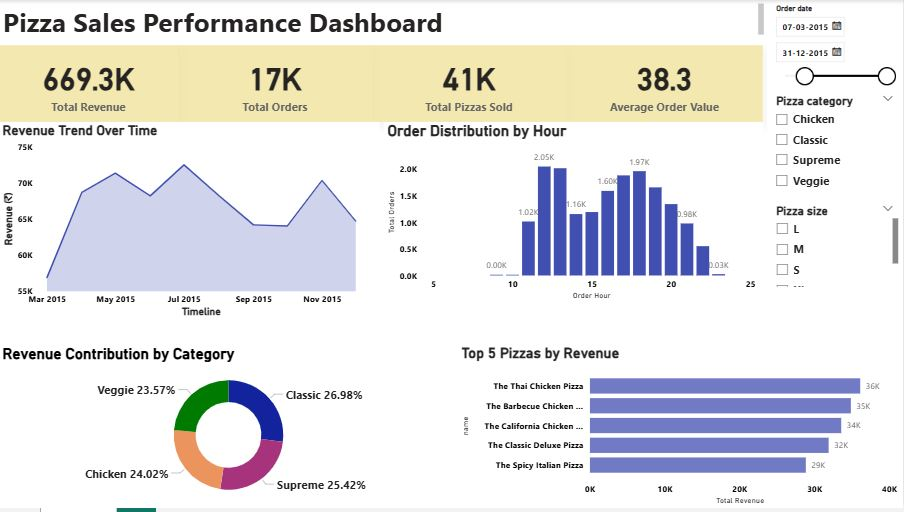

The dashboard page shown, as its layout file describes it:
{"tool":"powerbi","page":{"name":"Page 1","canvas":[1280,720],"ordinal":0},"visuals":[{"type":"card","title":"Total Revenue (₹)","fields":{"Values":["order_details.Total Revenue"]},"box":[0,63.8,253.7,109.1],"z":0},{"type":"card","title":"Total Revenue","fields":{"Values":["order_details.Total Orders"]},"box":[253.7,63.8,275,109.1],"z":1000},{"type":"card","title":"Total Revenue","fields":{"Values":["order_details.Total Pizzas Sold"]},"box":[528.7,63.8,275,109.1],"z":2000},{"type":"card","title":"Total Revenue","fields":{"Values":["order_details.Average Order Value"]},"box":[803.6,63.8,279.2,109.1],"z":3000},{"type":"lineChart","title":"Revenue Trend Over Time","fields":{"Y":["order_details.Total Revenue"],"Category":["orders.date.Variation.Date Hierarchy.Year","orders.date.Variation.Date Hierarchy.Month"]},"box":[0,172.9,538.6,282],"z":4000},{"type":"clusteredColumnChart","title":"Order Distribution by Hour","fields":{"Category":["orders.Order Hour"],"Y":["order_details.Total Orders"]},"box":[545.7,172.9,537.2,256.5],"z":5000},{"type":"barChart","title":"Top 5 Pizzas by Revenue","fields":{"Category":["pizza_types.name"],"Y":["order_details.Total Revenue"]},"box":[650.6,489,629.3,231],"z":6000},{"type":"donutChart","title":"Revenue Contribution by Category","fields":{"Category":["pizza_types.category"],"Y":["order_details.Total Revenue"]},"box":[0,489,650.6,231],"z":7000},{"type":"slicer","fields":{"Values":["orders.date"]},"box":[1088.5,0,191.3,127.6],"z":8000},{"type":"slicer","fields":{"Values":["pizza_types.category"]},"box":[1088.5,127.6,191.3,147.4],"z":9000},{"type":"slicer","fields":{"Values":["pizzas.size"]},"box":[1088.5,283.5,191.3,127.6],"z":10000},{"type":"textbox","box":[0,0,1088.5,63.8],"z":11000}]}

Visuals, with their boxes on the page's 1280x720 design canvas (x1, y1, x2, y2). These are canvas units, not pixel positions in the 904x512 screenshot, which may show the page scaled, cropped or inside an application window:
"Total Revenue (₹)" card: {"left": 0, "top": 64, "right": 254, "bottom": 173}
"Total Revenue" card: {"left": 254, "top": 64, "right": 529, "bottom": 173}
"Total Revenue" card: {"left": 529, "top": 64, "right": 804, "bottom": 173}
"Total Revenue" card: {"left": 804, "top": 64, "right": 1083, "bottom": 173}
"Revenue Trend Over Time" lineChart: {"left": 0, "top": 173, "right": 539, "bottom": 455}
"Order Distribution by Hour" clusteredColumnChart: {"left": 546, "top": 173, "right": 1083, "bottom": 429}
"Top 5 Pizzas by Revenue" barChart: {"left": 651, "top": 489, "right": 1280, "bottom": 720}
"Revenue Contribution by Category" donutChart: {"left": 0, "top": 489, "right": 651, "bottom": 720}
slicer - orders.date: {"left": 1088, "top": 0, "right": 1280, "bottom": 128}
slicer - pizza_types.category: {"left": 1088, "top": 128, "right": 1280, "bottom": 275}
slicer - pizzas.size: {"left": 1088, "top": 284, "right": 1280, "bottom": 411}
textbox: {"left": 0, "top": 0, "right": 1088, "bottom": 64}
